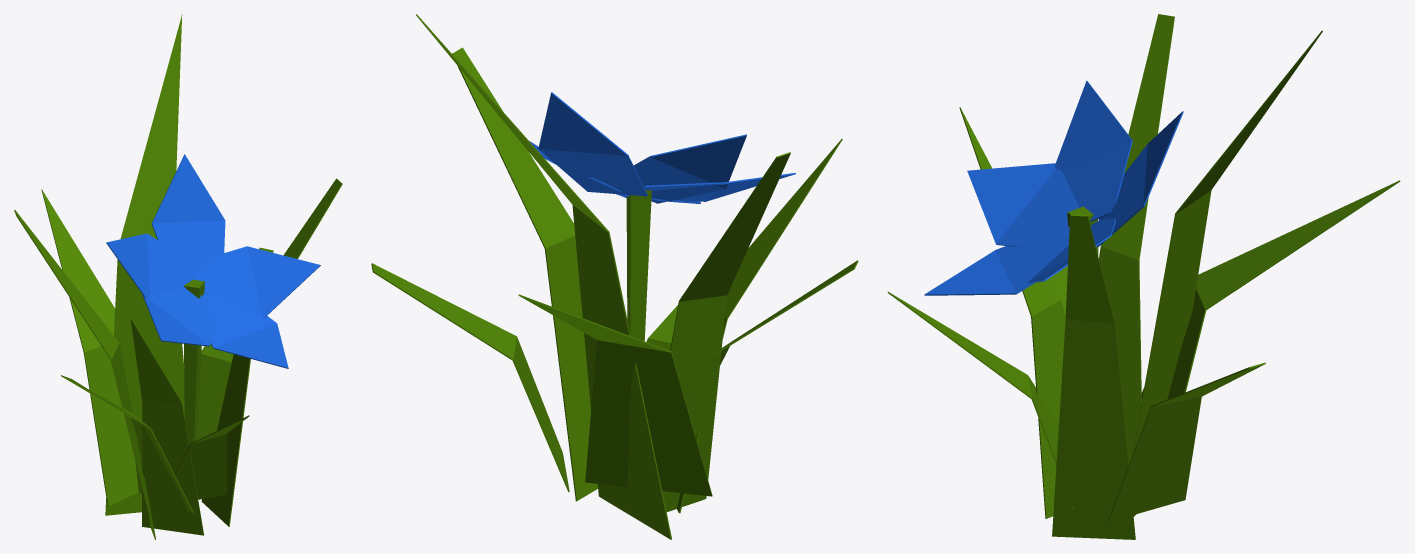
Rendered from 024 Flower_Plant_Blue.FBX.
The picture shows the model from 3 angles, left to right: view 1: azimuth 30°, elevation 25°; view 2: azimuth 150°, elevation 25°; view 3: azimuth 270°, elevation 25°; orthographic projection. The views are drawn at different scales.
Parts seen in each view (by area): view 1: FlowerPlane_091; view 2: FlowerPlane_091; view 3: FlowerPlane_091.
Part boxes in pixels (left/top/right/bottom): FlowerPlane_091: left=14, top=14, right=342, bottom=539; FlowerPlane_091: left=371, top=14, right=858, bottom=539; FlowerPlane_091: left=887, top=14, right=1400, bottom=539.
Size of the model in its own units: 31.57 by 43.12 by 36.88.
